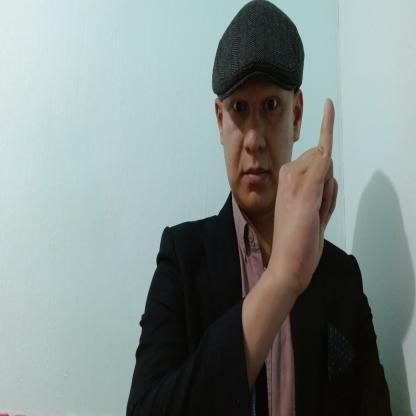I: (274, 98, 338, 289)
